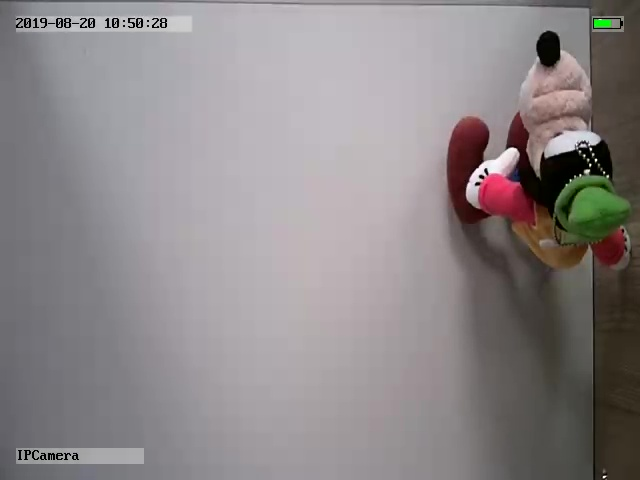goofy: (446, 31, 634, 274)
